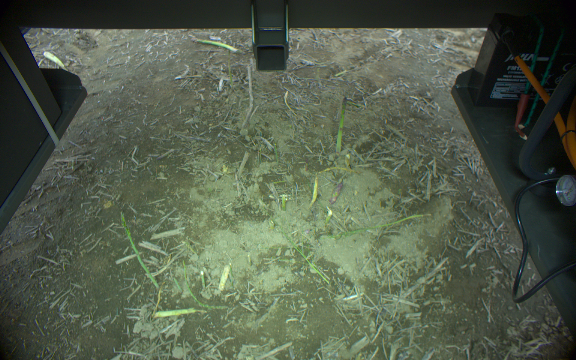aspa: (118, 210, 160, 291), (190, 35, 240, 57), (333, 97, 353, 151), (155, 305, 206, 320), (39, 47, 68, 69), (308, 171, 320, 208), (330, 179, 345, 205), (217, 264, 232, 290), (323, 208, 334, 227), (341, 152, 353, 168), (281, 193, 287, 213)
